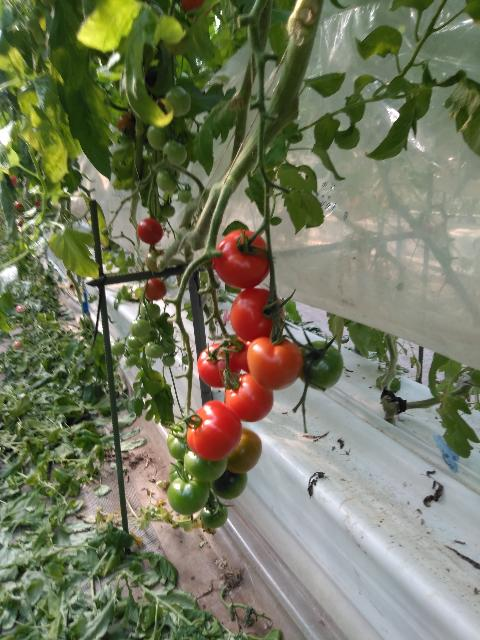l_fully_ripened: (213, 229, 270, 290), (186, 400, 242, 461), (229, 288, 284, 343), (224, 372, 274, 423), (197, 342, 241, 389), (137, 218, 163, 244), (233, 337, 251, 373), (143, 278, 167, 301)
l_green: (299, 340, 343, 391), (167, 473, 211, 516), (185, 451, 228, 482), (210, 469, 247, 501), (167, 416, 192, 461), (163, 86, 191, 119), (200, 500, 228, 529), (147, 123, 172, 150), (163, 139, 187, 167), (156, 167, 178, 193), (145, 251, 167, 273), (170, 460, 188, 484), (130, 320, 151, 338), (140, 302, 160, 320), (144, 342, 164, 359), (160, 337, 176, 354), (128, 335, 144, 349), (160, 205, 175, 218), (111, 342, 125, 355), (179, 189, 192, 203), (162, 355, 175, 367), (125, 354, 138, 366)
l_half_ripened: (246, 336, 303, 391), (227, 425, 263, 474)
